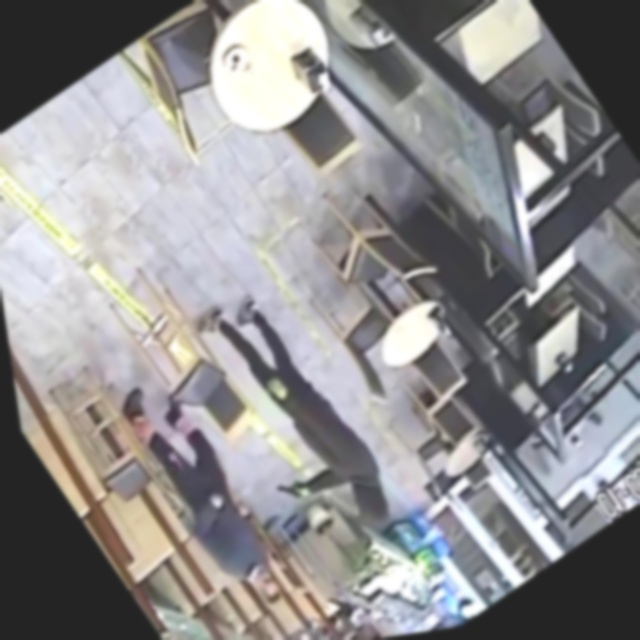gun: (257, 449, 329, 521)
